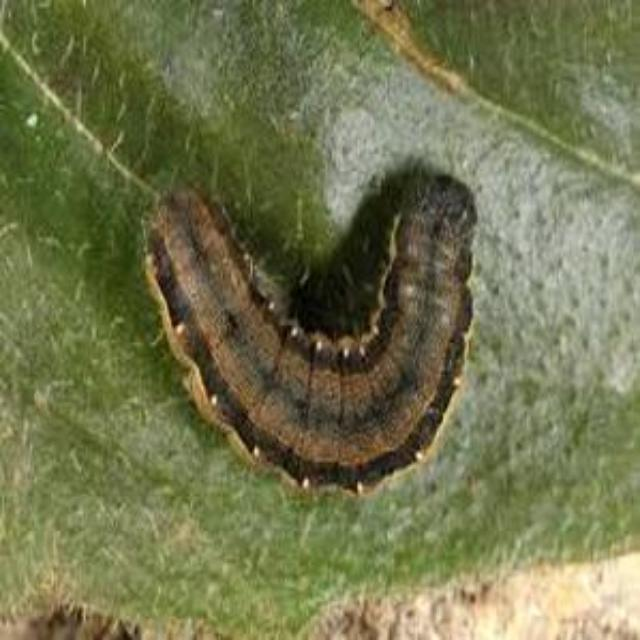Beet armyworm: (74, 115, 536, 555)
